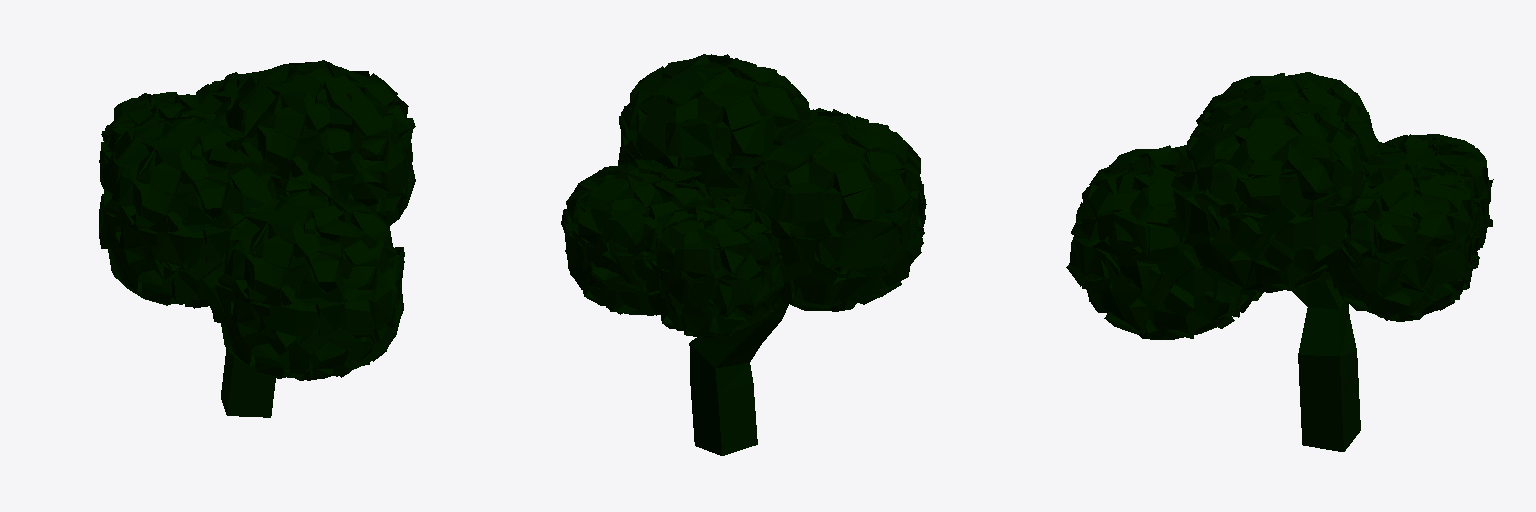
The model's file is tree.obj.
3 renders of one model, left to right at view 1: azimuth 30°, elevation 25°; view 2: azimuth 150°, elevation 25°; view 3: azimuth 270°, elevation 25°, orthographic.
Visible parts, largest first — view 1: Icosphere.009_Icosphere.010; view 2: Icosphere.009_Icosphere.010; view 3: Icosphere.009_Icosphere.010.
Part boxes in pixels (x1,y1,x2,y2): Icosphere.009_Icosphere.010: (99, 60, 415, 417); Icosphere.009_Icosphere.010: (561, 54, 926, 455); Icosphere.009_Icosphere.010: (1066, 72, 1493, 451).
Bounding box in the file's own units: 4.76 × 5.63 × 6.18.